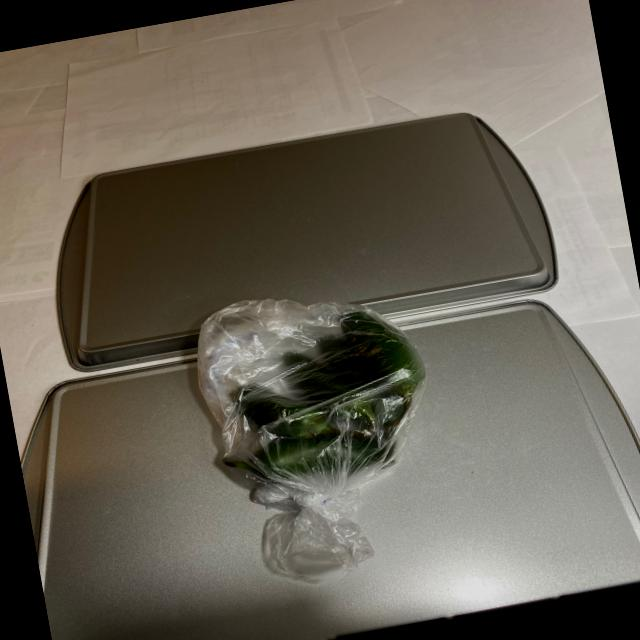chilli: (193, 287, 448, 520)
